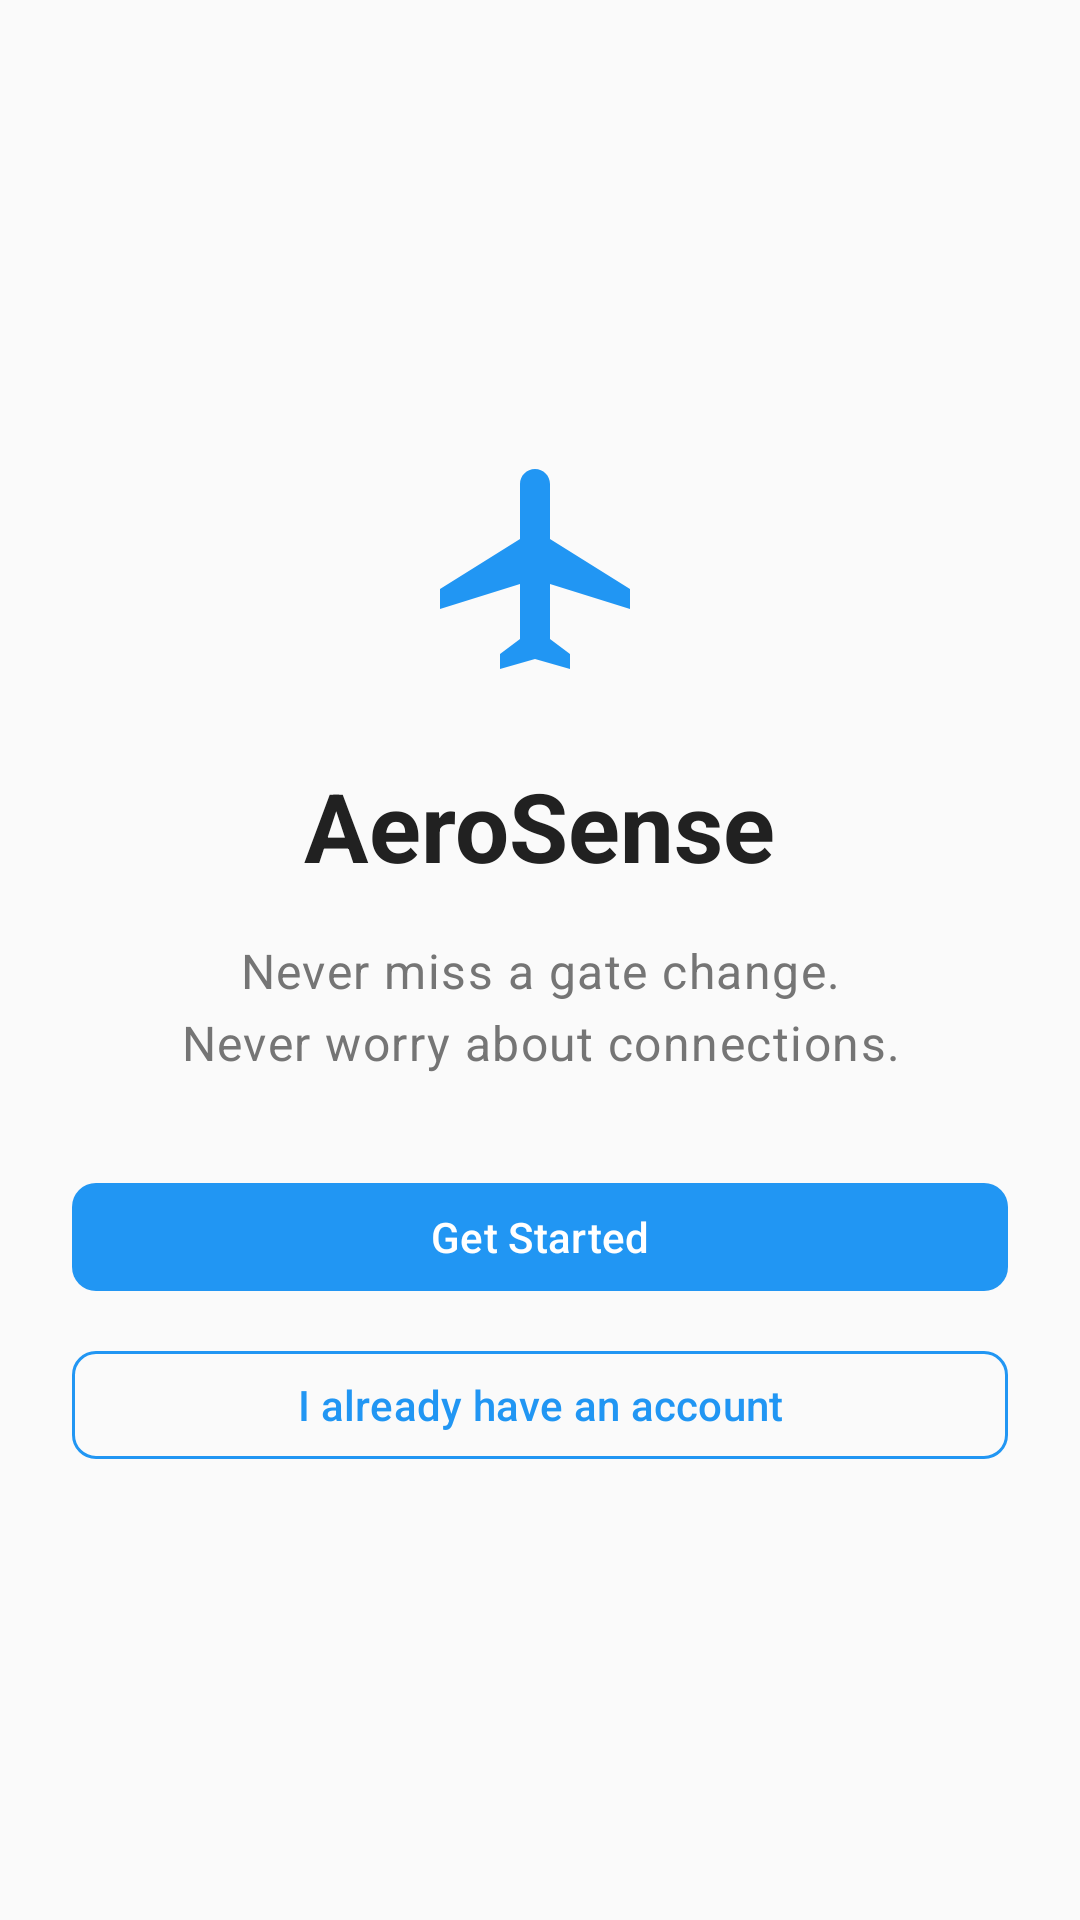

Screen size 1080 × 1920. Icon name, then its box in pixels as (x1, y1, x2, y2):
flight: (440, 469, 630, 669)
